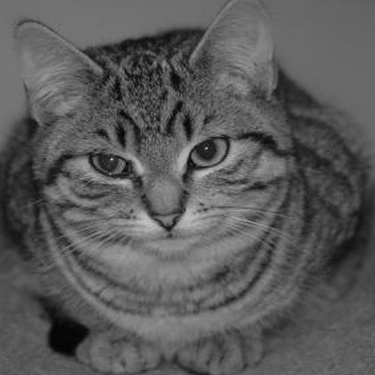cat: (1, 10, 365, 348)
